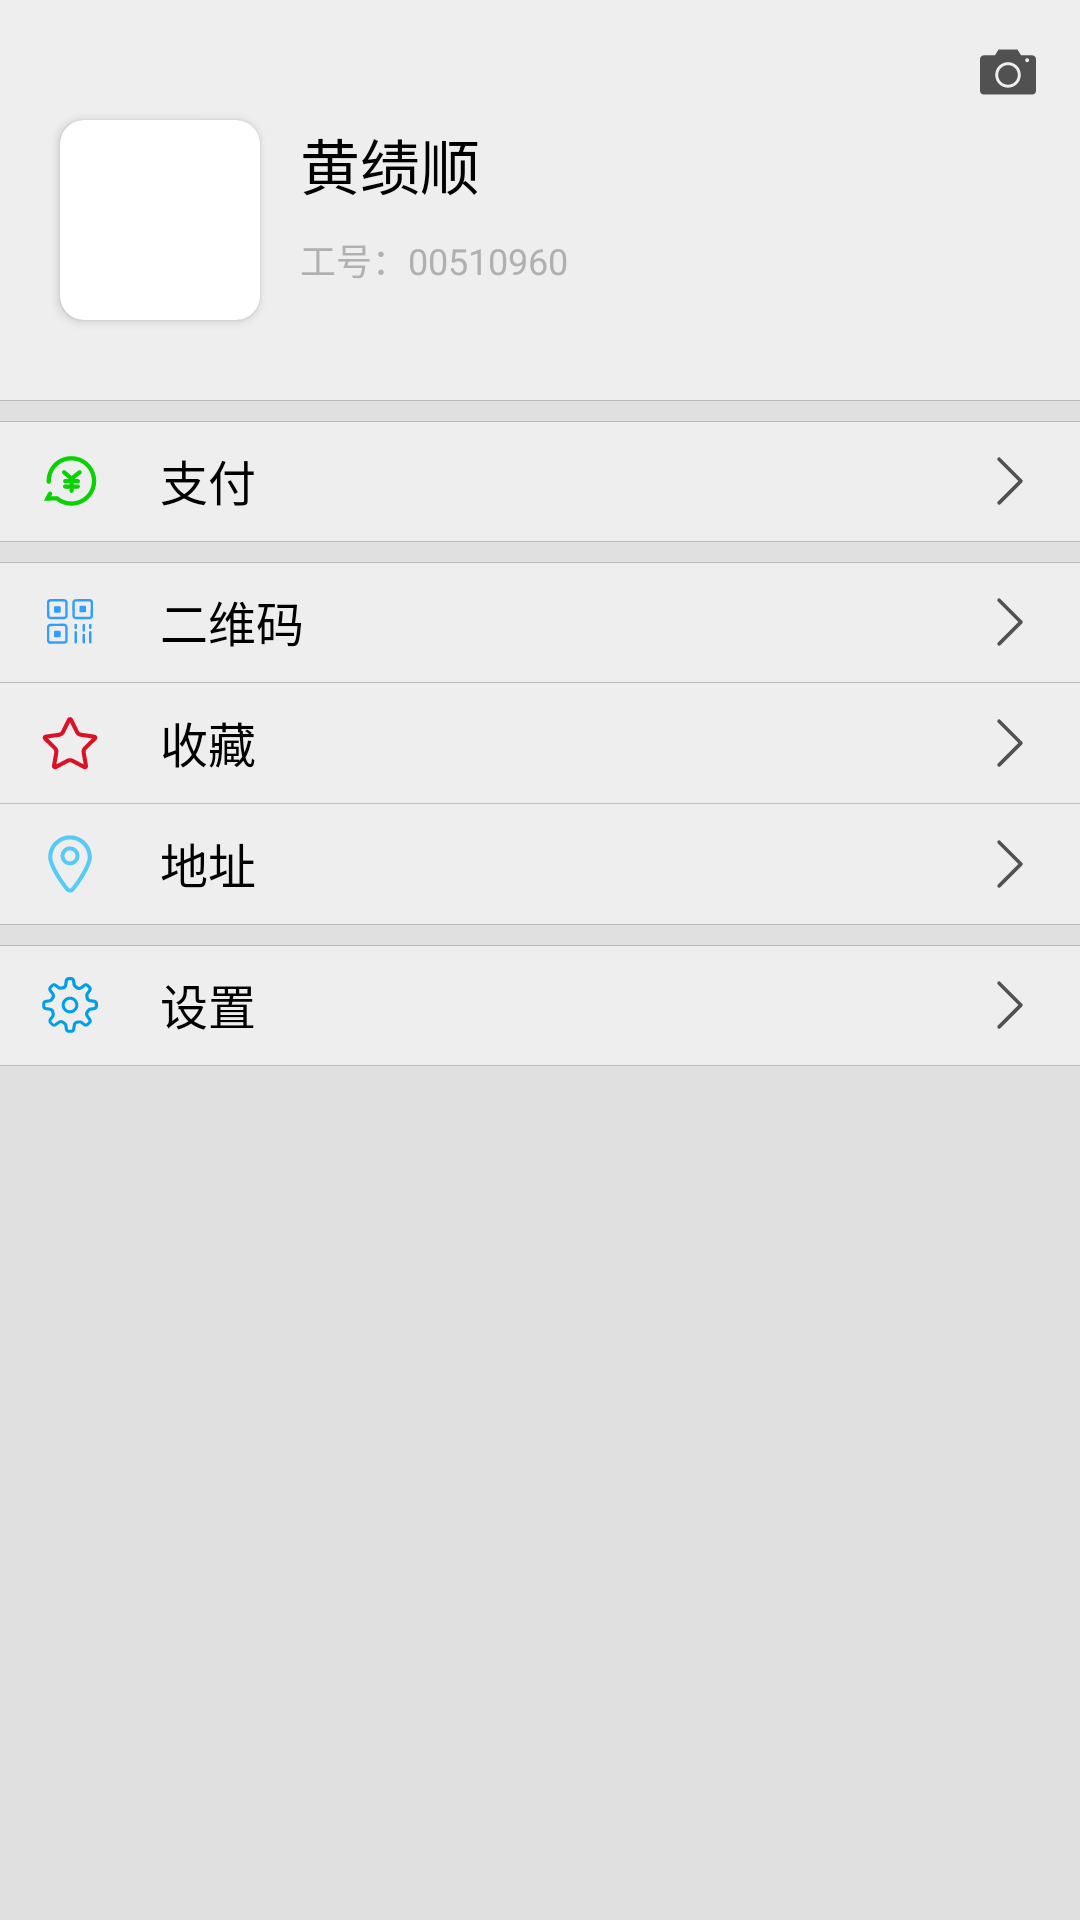

Where icons sit on this 1080px×1920px app screen, as bbox=(x1, y1, x2, y2):
address: bbox=(48, 835, 92, 893)
collection: bbox=(42, 717, 98, 770)
pay: bbox=(44, 456, 97, 506)
photograph: bbox=(980, 49, 1036, 95)
qr code: bbox=(47, 599, 93, 644)
right arrow: bbox=(997, 457, 1023, 505), bbox=(997, 598, 1023, 646), bbox=(997, 719, 1023, 767), bbox=(997, 840, 1023, 888), bbox=(997, 981, 1023, 1029)
setting: bbox=(42, 977, 98, 1033)
